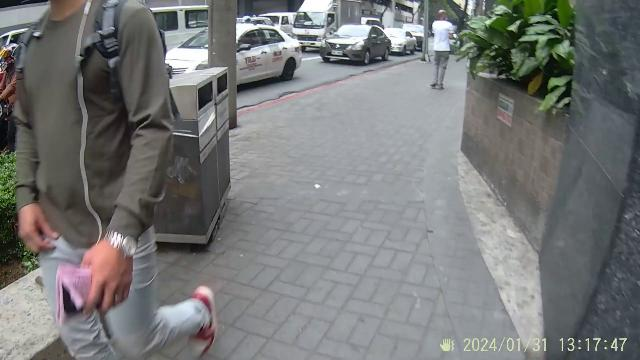car: (319, 18, 393, 66)
garbage: (166, 64, 237, 252)
